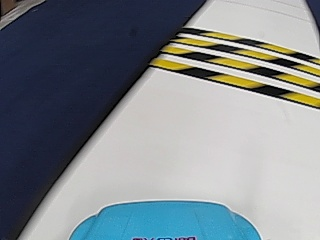bump: (180, 29, 311, 101)
